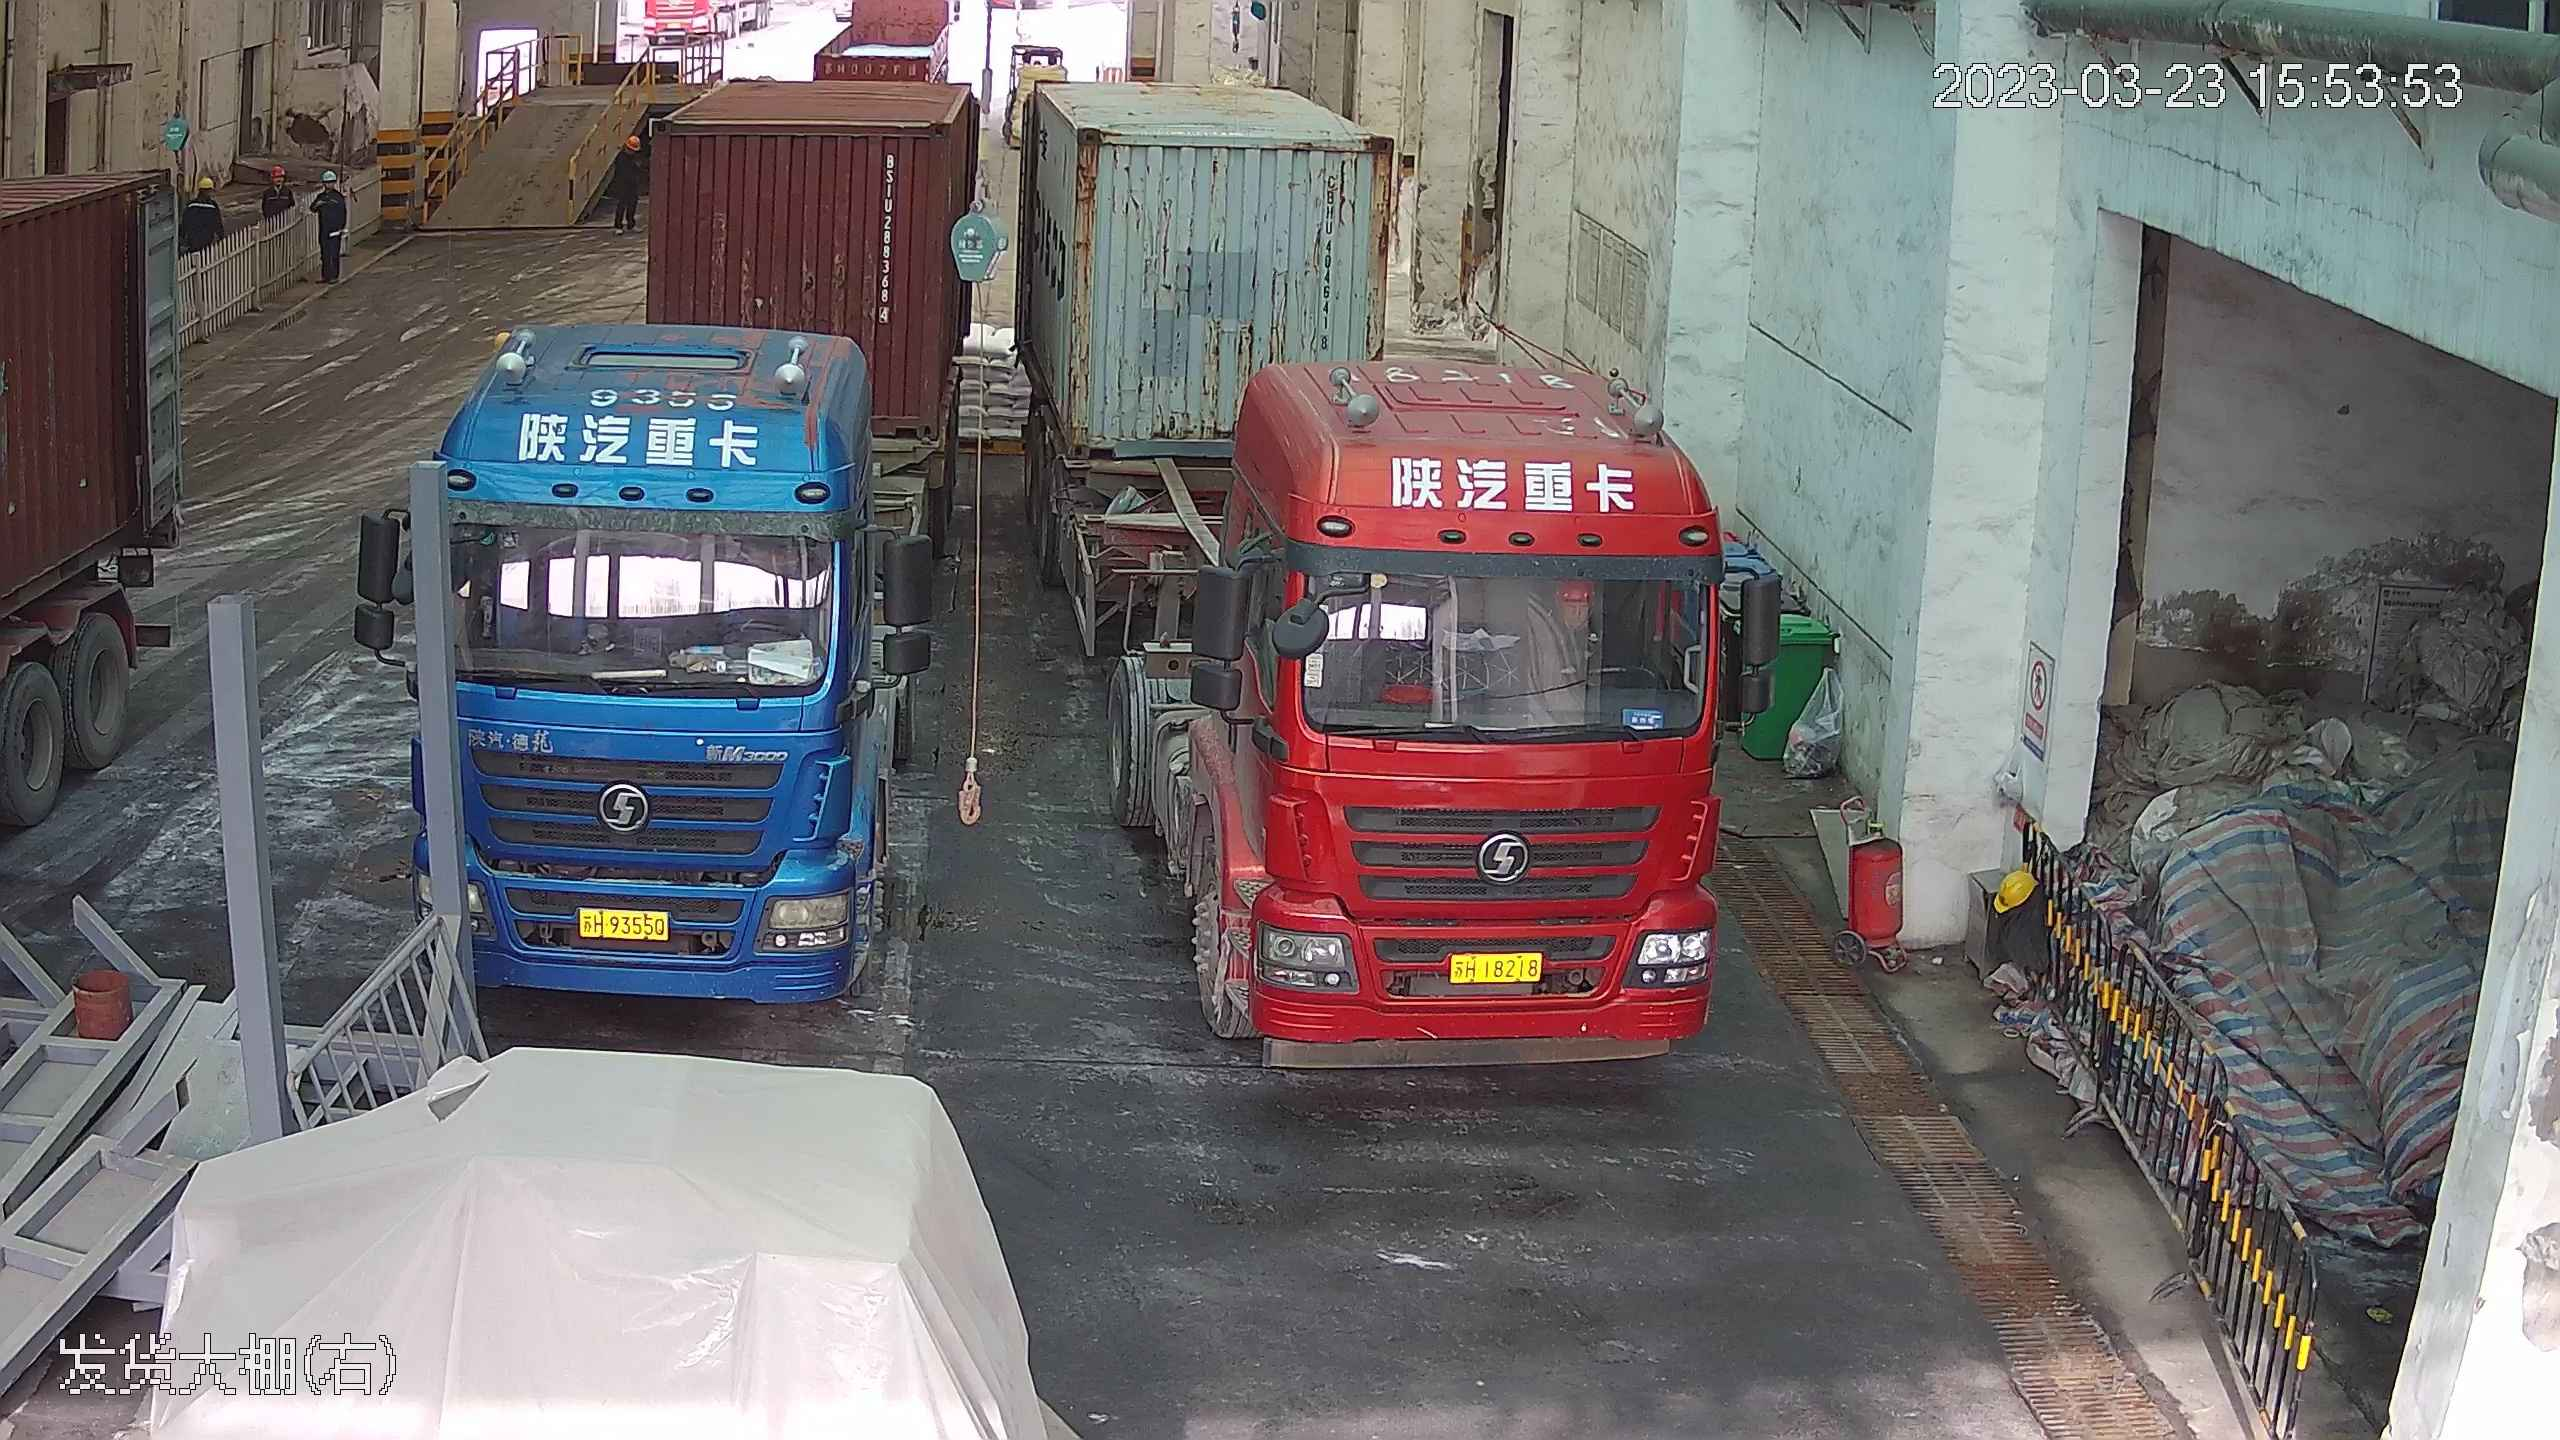head: (189, 174, 225, 218), (311, 168, 346, 212), (610, 133, 641, 171), (263, 161, 293, 199)
helmet: (1993, 862, 2038, 913), (191, 173, 211, 192), (626, 134, 640, 153), (269, 164, 285, 179), (321, 171, 337, 183)
people: (182, 172, 228, 296), (310, 169, 352, 287), (258, 157, 295, 279), (600, 127, 643, 229)
truck: (1024, 19, 1735, 1078), (418, 14, 971, 1004), (1, 51, 198, 930)
